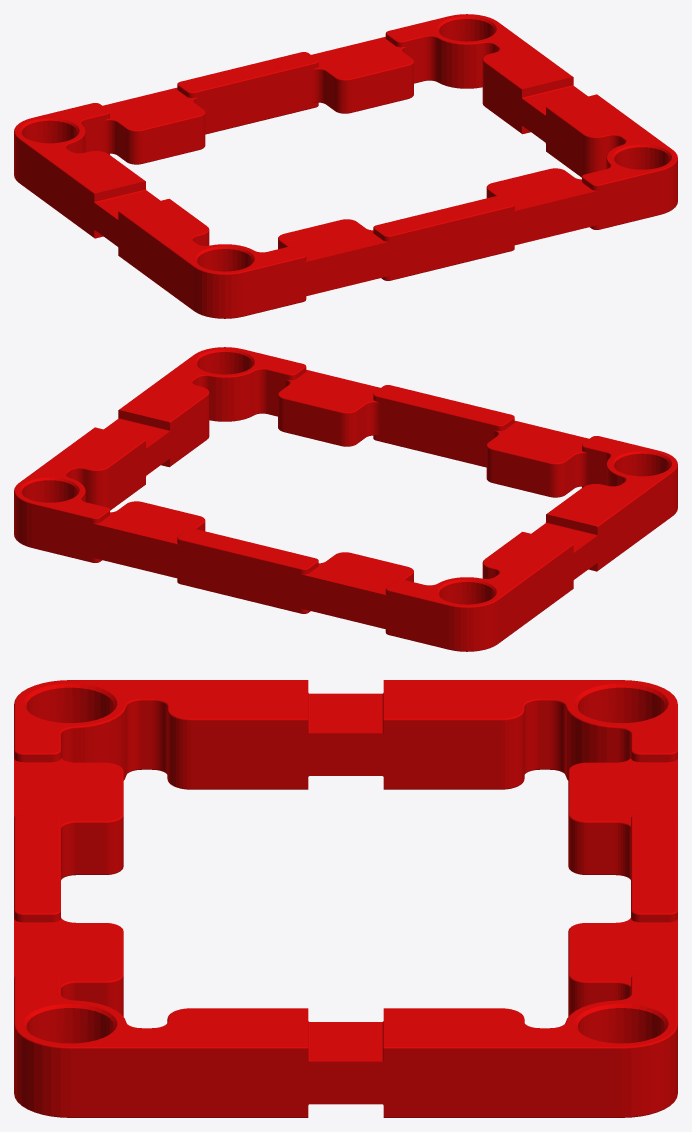
Rendered from rectangle_frame.glb.
The picture shows the model from 3 angles, top to bottom: view 1: azimuth 30°, elevation 25°; view 2: azimuth 150°, elevation 25°; view 3: azimuth 270°, elevation 25°; orthographic projection. The views are drawn at different scales.
Visible parts, largest first — view 1: rectangular conf (1); view 2: rectangular conf (1); view 3: rectangular conf (1).
Part boxes in pixels (left/top/right/bottom): rectangular conf (1): left=14, top=14, right=677, bottom=318; rectangular conf (1): left=14, top=347, right=677, bottom=651; rectangular conf (1): left=14, top=680, right=677, bottom=1117.
Bounding box in the file's own units: 2.78 × 0.25 × 2.12.
